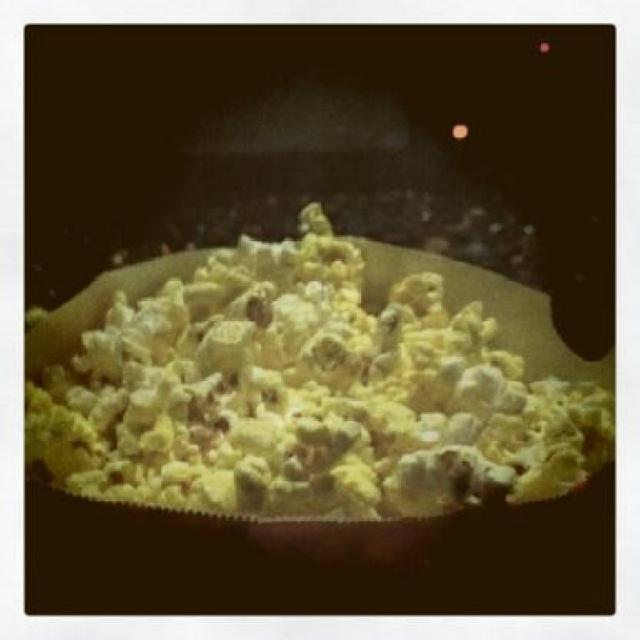Popcorn: (26, 202, 611, 521)
